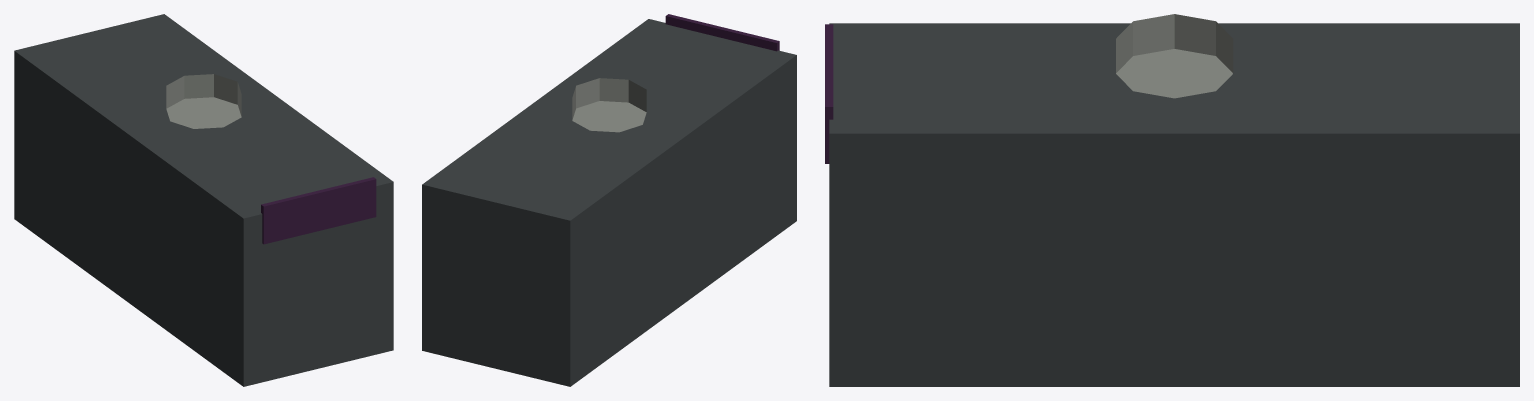
Rendered from exam_couch.glb.
3 views of the same model, side by side, from view 1: azimuth 30°, elevation 25°; view 2: azimuth 150°, elevation 25°; view 3: azimuth 270°, elevation 25° (orthographic). The views are drawn at different scales.
Parts seen in each view (by area): view 1: body; view 2: body; view 3: body.
Boxes of the visible parts, x1,y1,x2,y2 form: body: [14, 14, 393, 386]; body: [422, 14, 796, 386]; body: [825, 14, 1519, 386].
Bounding box in the file's own units: 0.56 × 0.6937 × 1.49.
Materials: 1 (1 with a texture image).
